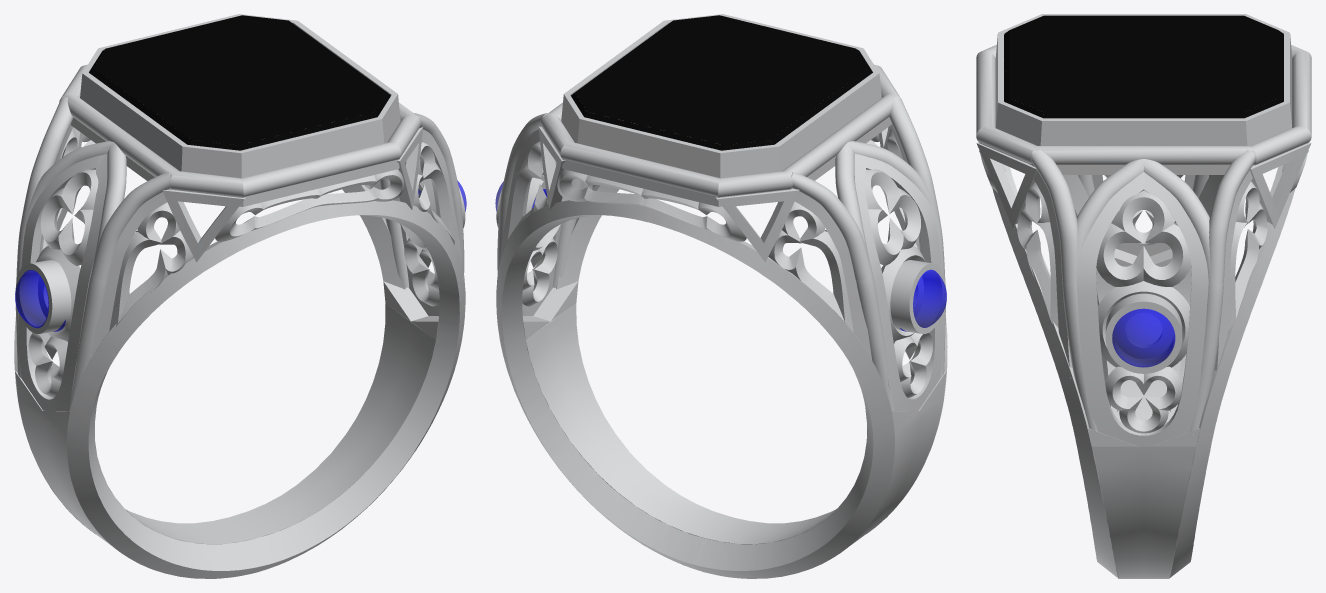
Rendered from EME.glb.
3 renders of one model, left to right at view 1: azimuth 30°, elevation 25°; view 2: azimuth 150°, elevation 25°; view 3: azimuth 270°, elevation 25°, orthographic.
Parts seen in each view (by area): view 1: STLEXP Object01 (×25), object 1; view 2: STLEXP Object01 (×25), object 1; view 3: STLEXP Object01 (×23), object 3.
Boxes of the visible parts, <box> form: STLEXP Object01 (×25): <box>14,14,465,578</box>; object 1: <box>15,270,65,331</box>; STLEXP Object01 (×25): <box>496,14,947,578</box>; object 1: <box>900,269,946,331</box>; STLEXP Object01 (×23): <box>976,14,1311,578</box>; object 3: <box>1112,308,1175,367</box>.
Bounding box in the file's own units: 0.0264 × 0.0276 × 0.017.
